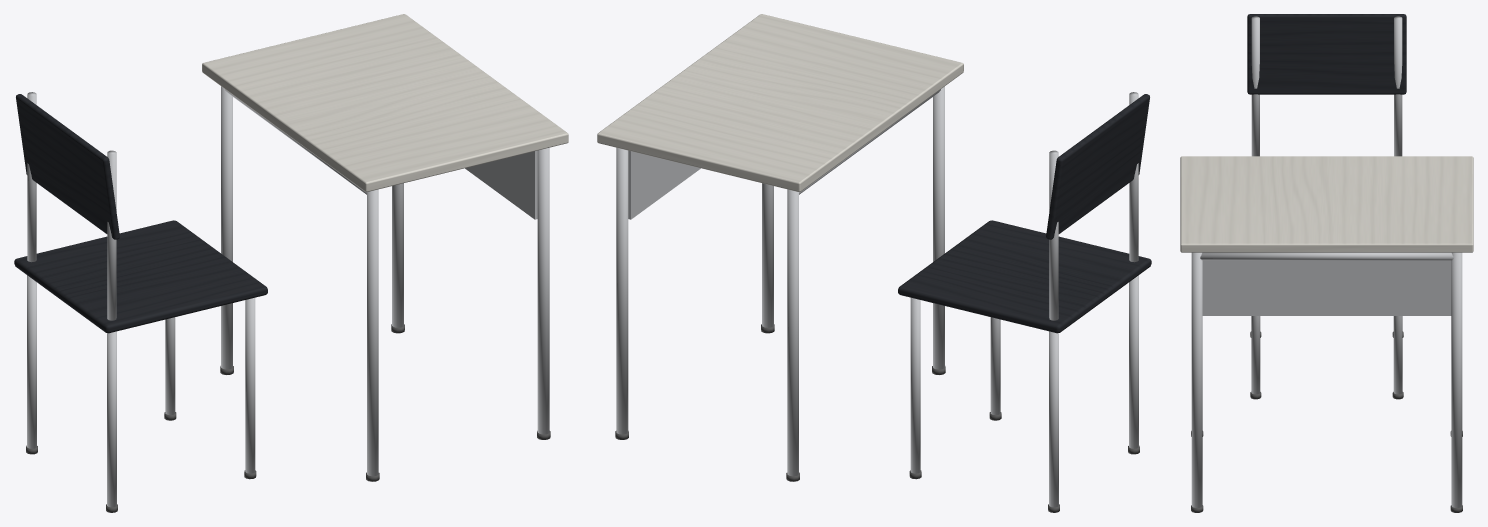
File: aula.pupitre.fbx
3 views of the same model, side by side, from view 1: azimuth 30°, elevation 25°; view 2: azimuth 150°, elevation 25°; view 3: azimuth 270°, elevation 25° (orthographic). The views are drawn at different scales.
Visible parts, largest first — view 1: Cubierta del pupitre, Asiento, Respaldo, Pata.001, Pata.003, Pata.002, Faldon, Pata de la silla.001, Pata de la silla.003, Pata, Pata de la silla.002, Pata del respaldo.001 (+2 smaller); view 2: Cubierta del pupitre, Asiento, Respaldo, Pata, Pata.002, Pata.003, Faldon, Pata de la silla, Pata de la silla.002, Pata.001, Pata de la silla.003, Pata del respaldo (+2 smaller); view 3: Cubierta del pupitre, Faldon, Respaldo, Pata, Pata.001, Travesano, Pata del respaldo, Pata del respaldo.001, Pata de la silla, Pata de la silla.001.
Boxes of the visible parts, x1,y1,x2,y2 form: Cubierta del pupitre: [202, 14, 568, 191]; Asiento: [14, 220, 267, 333]; Respaldo: [16, 94, 119, 239]; Pata.001: [537, 147, 549, 434]; Pata.003: [367, 189, 378, 476]; Pata.002: [221, 86, 232, 369]; Faldon: [465, 150, 537, 219]; Pata de la silla.001: [245, 297, 255, 473]; Pata de la silla.003: [107, 331, 116, 507]; Pata: [392, 183, 403, 327]; Pata de la silla.002: [27, 275, 36, 448]; Pata del respaldo.001: [107, 150, 116, 320]; Cubierta del pupitre: [597, 14, 963, 191]; Asiento: [898, 220, 1151, 333]; Respaldo: [1046, 94, 1149, 239]; Pata: [616, 147, 628, 434]; Pata.002: [787, 189, 798, 476]; Pata.003: [933, 86, 944, 369]; Faldon: [628, 150, 700, 219]; Pata de la silla: [910, 297, 920, 473]; Pata de la silla.002: [1049, 331, 1058, 507]; Pata.001: [762, 183, 773, 327]; Pata de la silla.003: [1129, 275, 1138, 448]; Pata del respaldo: [1049, 150, 1058, 320]; Cubierta del pupitre: [1180, 156, 1473, 252]; Faldon: [1202, 260, 1451, 315]; Respaldo: [1247, 14, 1406, 94]; Pata: [1451, 252, 1462, 507]; Pata.001: [1191, 252, 1202, 507]; Travesano: [1200, 252, 1453, 260]; Pata del respaldo: [1394, 16, 1402, 156]; Pata del respaldo.001: [1251, 16, 1259, 156]; Pata de la silla: [1393, 316, 1402, 394]; Pata de la silla.001: [1251, 316, 1260, 394].
Size of the model in its own units: 1.05 by 0.84 by 0.7.
4 materials, 2 textured.
